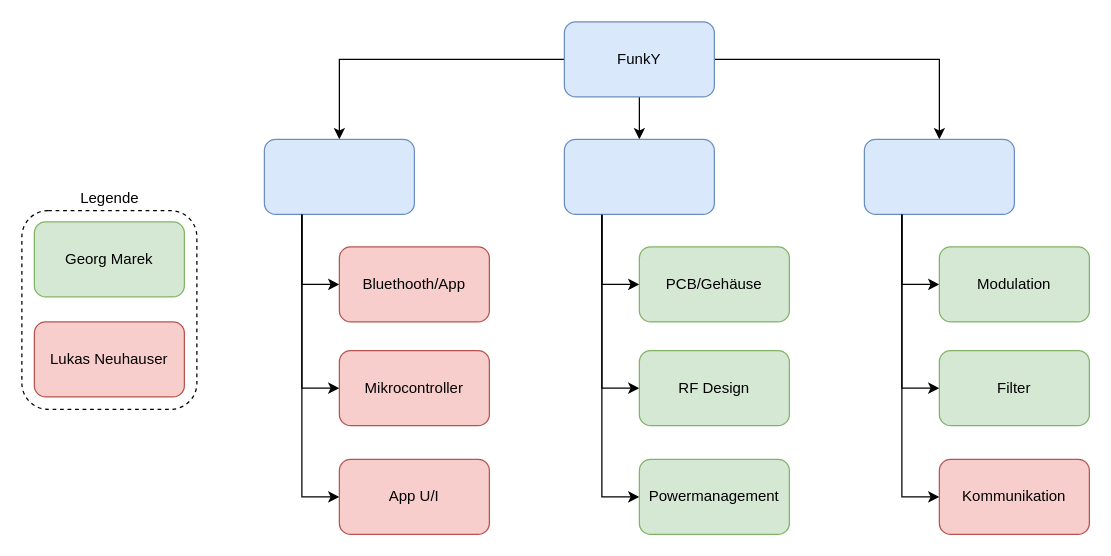
Image size: 1111x556. Some labels were removed from this diagram. Each missing label, with the centre of its shape:
Amateurfunk: point (938, 176)
Hardware: point (638, 176)
Software: point (338, 176)
